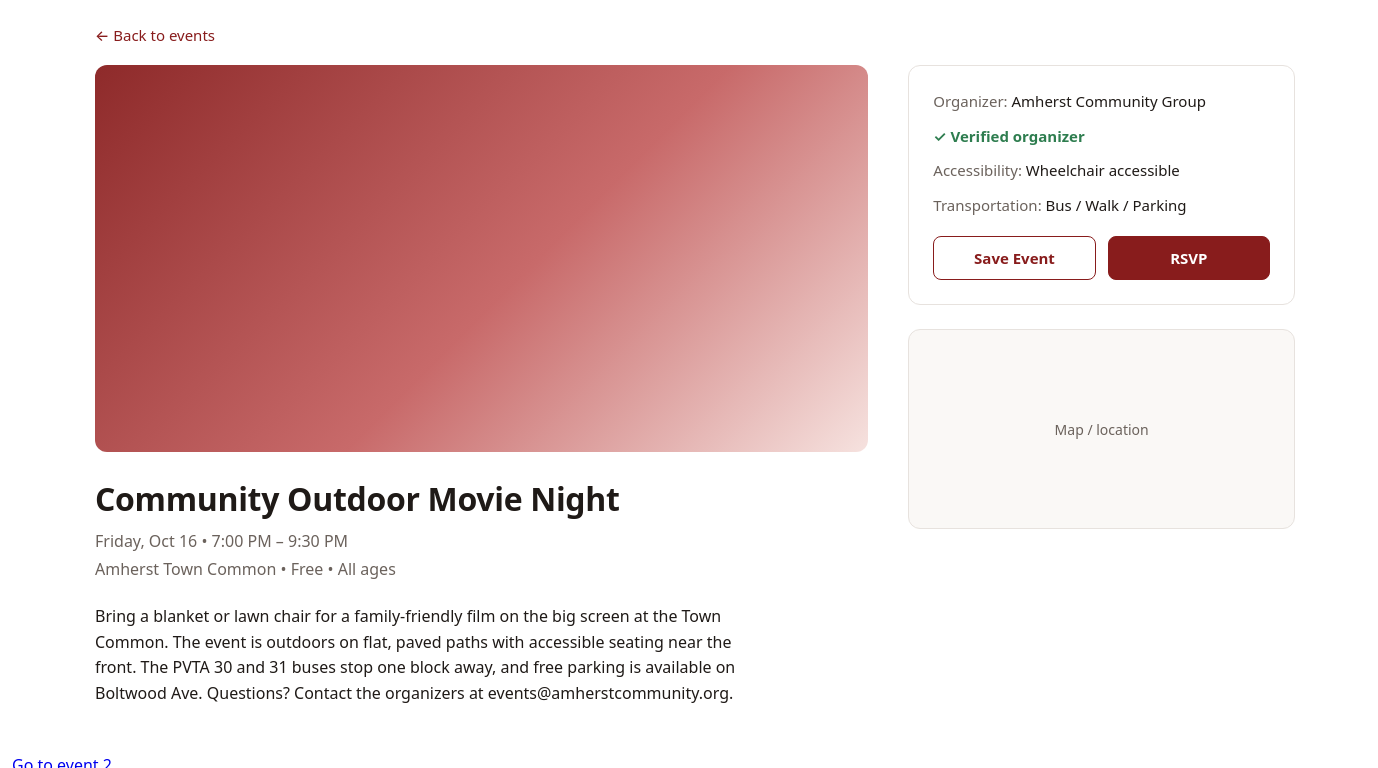
Test: EventDetails › resets Save/RSVP when switching to a different event
Click the button "Save Event" at (1014, 258), box [933,236,1096,280]
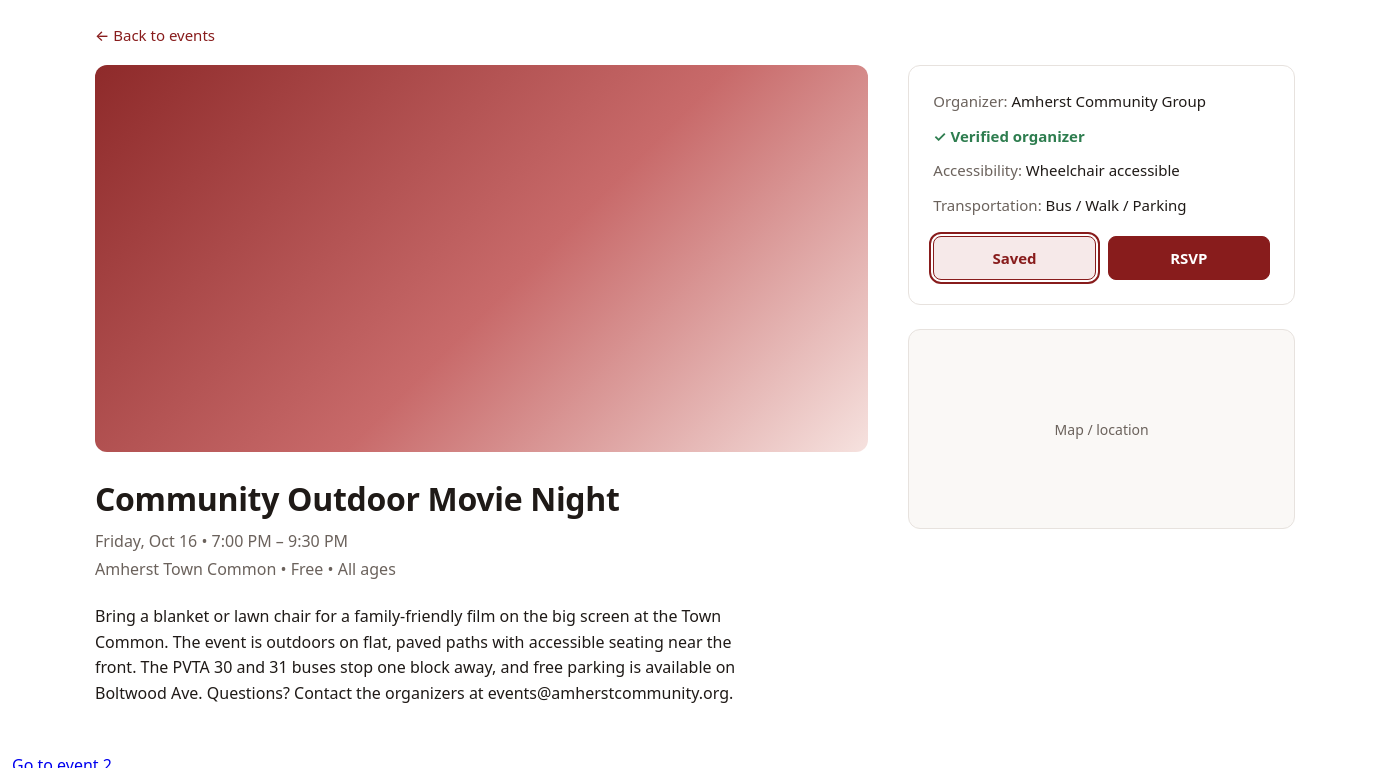
Click the button "RSVP" at (1189, 258), box [1108,236,1270,280]
(page scrolled)
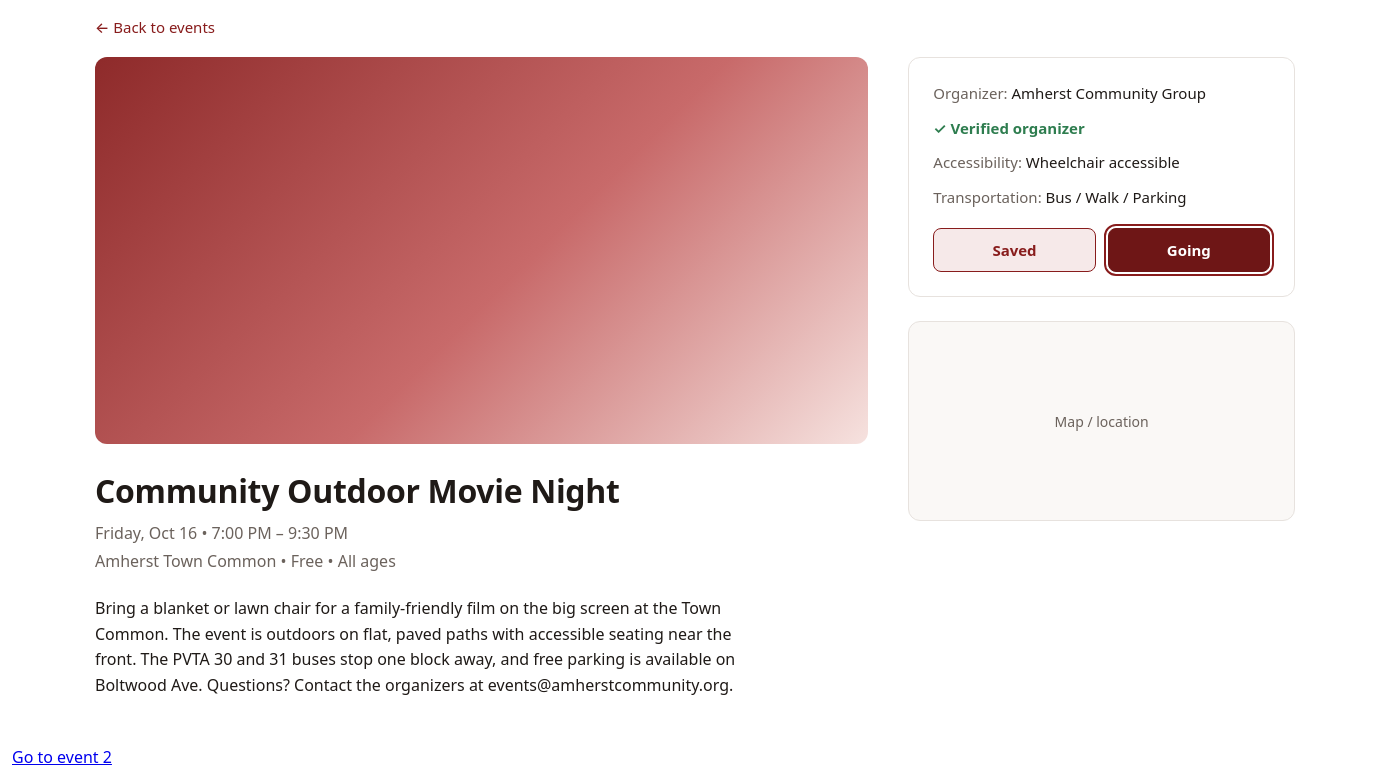
Check: the button "Saved" is shown, box [933,228,1096,272]
Click the link "Go to event 2" at (62, 757), box [12,746,112,767]
(page scrolled)
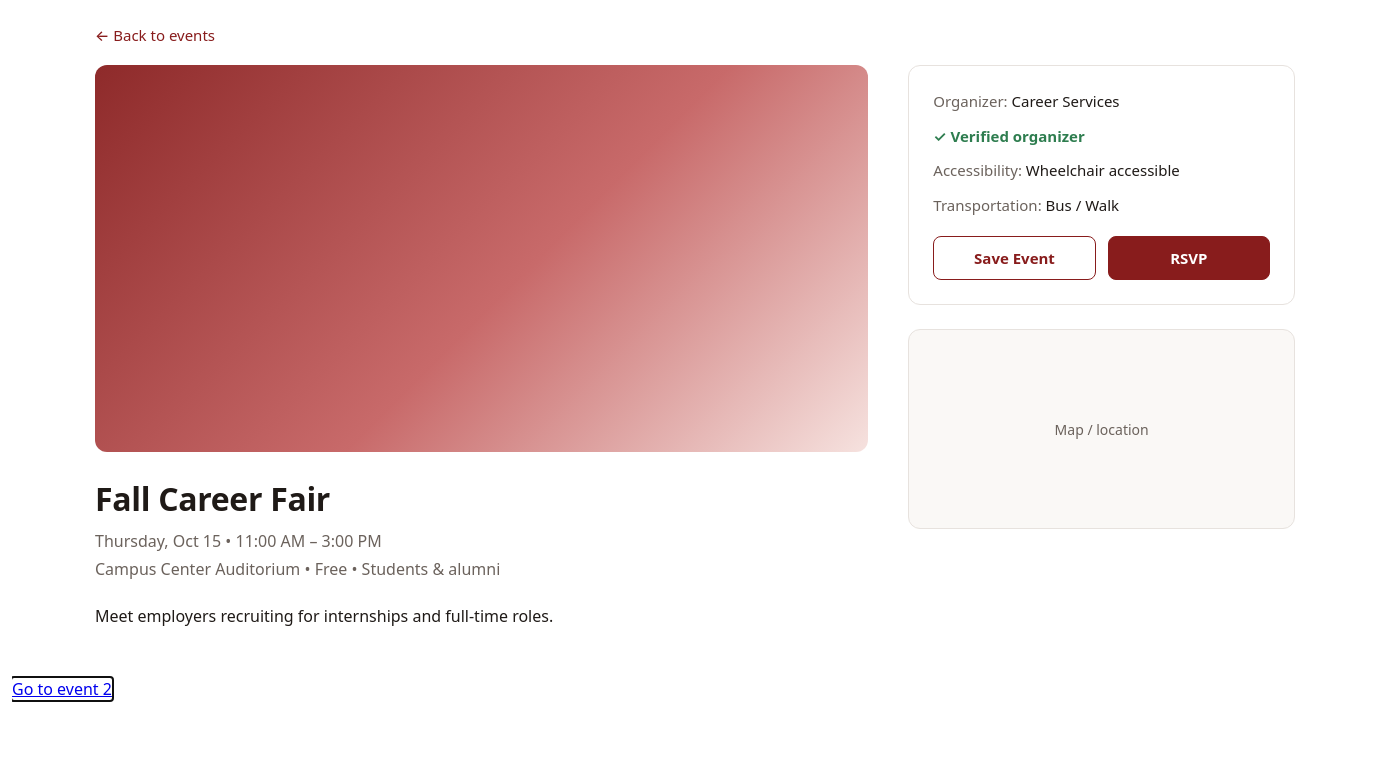
Check: the heading "Fall Career Fair" is shown, box [95,477,330,520]
